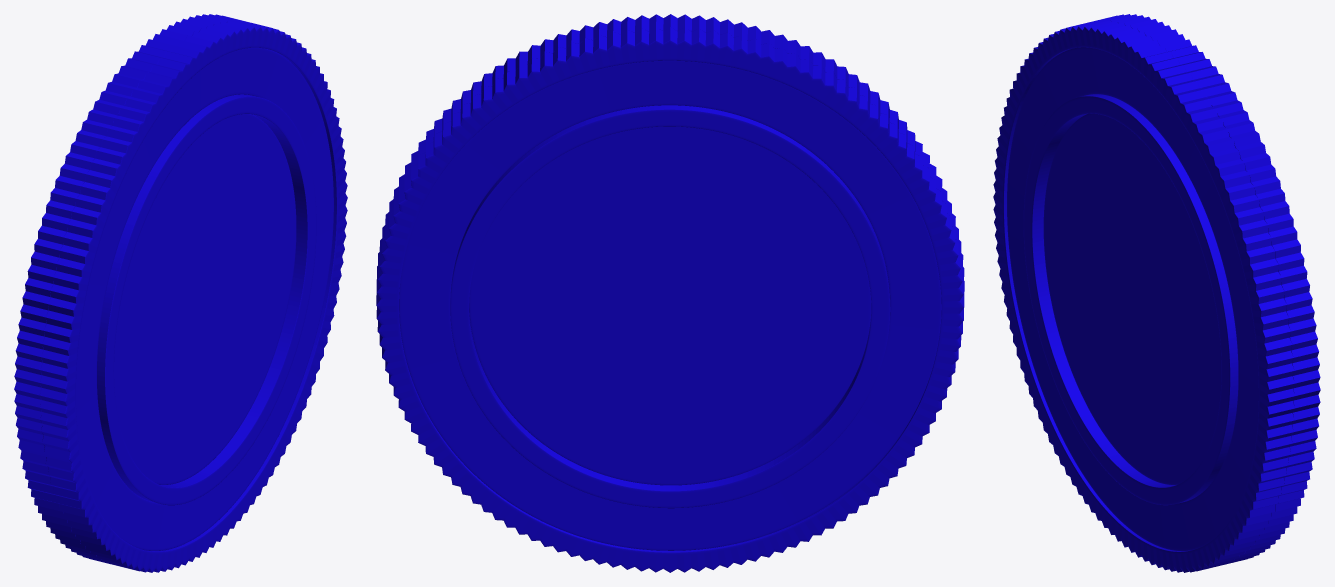
The model's file is blue_coin.fbx.
3 renders of one model, left to right at view 1: azimuth 30°, elevation 25°; view 2: azimuth 150°, elevation 25°; view 3: azimuth 270°, elevation 25°, orthographic. The views are drawn at different scales.
Parts seen in each view (by area): view 1: Cylinder; view 2: Cylinder; view 3: Cylinder.
Part boxes in pixels (x1,y1,x2,y2): Cylinder: [14, 14, 347, 572]; Cylinder: [376, 14, 964, 572]; Cylinder: [993, 14, 1320, 572].
Size of the model in its own units: 184 by 200 by 117.
